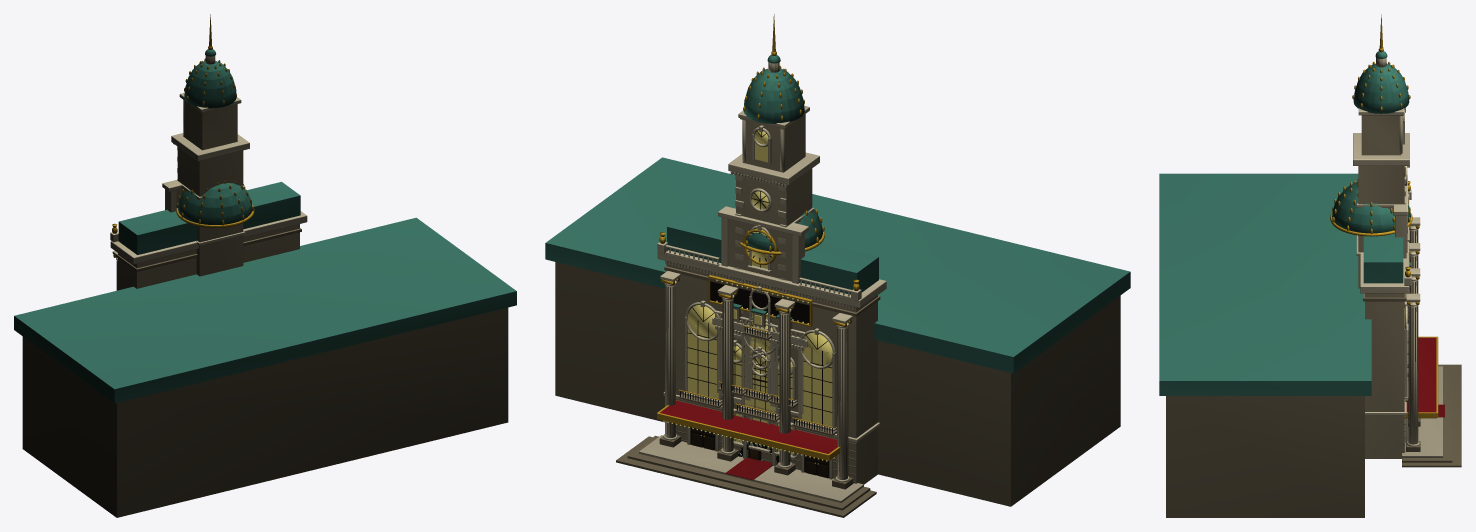
The model's file is props.glb.
The picture shows the model from 3 angles, left to right: view 1: azimuth 30°, elevation 25°; view 2: azimuth 150°, elevation 25°; view 3: azimuth 270°, elevation 25°; orthographic projection. The views are drawn at different scales.
Parts seen in each view (by area): view 1: casino_mid, casino_tower; view 2: casino_mid, casino_tower, casino_wing; view 3: casino_mid, casino_tower.
Part boxes in pixels (left/top/right/bottom): casino_mid: left=14, top=180, right=516, bottom=517; casino_tower: left=171, top=14, right=249, bottom=276; casino_mid: left=545, top=157, right=1130, bottom=517; casino_tower: left=728, top=14, right=819, bottom=461; casino_wing: left=712, top=303, right=807, bottom=469; casino_mid: left=1159, top=173, right=1461, bottom=517; casino_tower: left=1352, top=14, right=1410, bottom=301.
Size of the model in its own units: 74 by 71.58 by 45.6.
